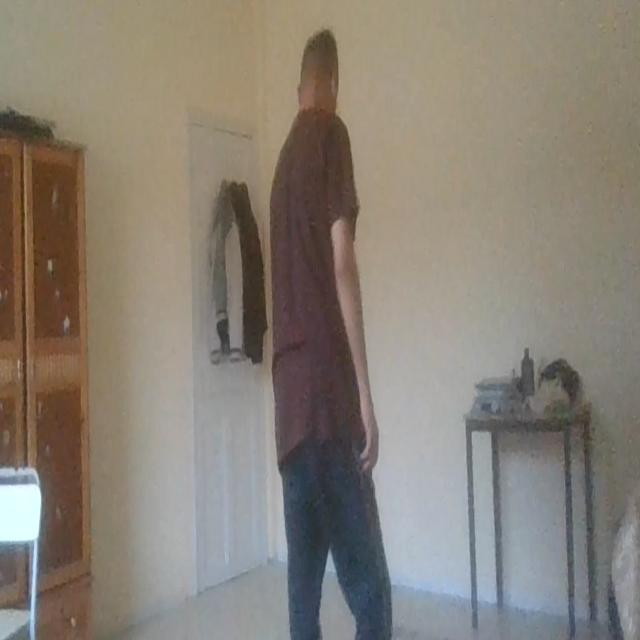non_violence: (262, 8, 408, 640), (261, 19, 394, 640)
